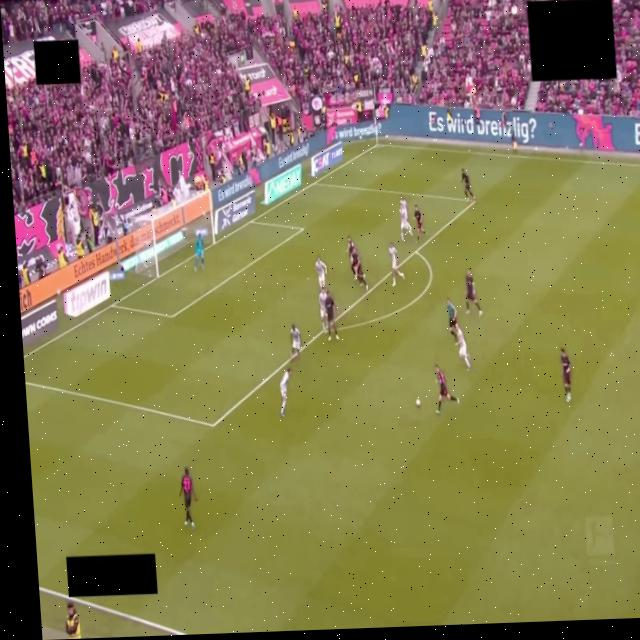ball: (416, 400, 420, 407)
player: (435, 366, 459, 415), (180, 467, 197, 529), (465, 270, 482, 316), (389, 242, 404, 286), (456, 324, 470, 370), (325, 293, 338, 341), (561, 348, 571, 403), (280, 368, 291, 417), (400, 201, 413, 241), (347, 236, 357, 280), (414, 205, 426, 240), (462, 168, 475, 200), (356, 258, 368, 290), (315, 258, 327, 289), (319, 287, 327, 332), (350, 248, 361, 280), (195, 232, 204, 271), (291, 325, 301, 359)
referee: (446, 300, 458, 344)
